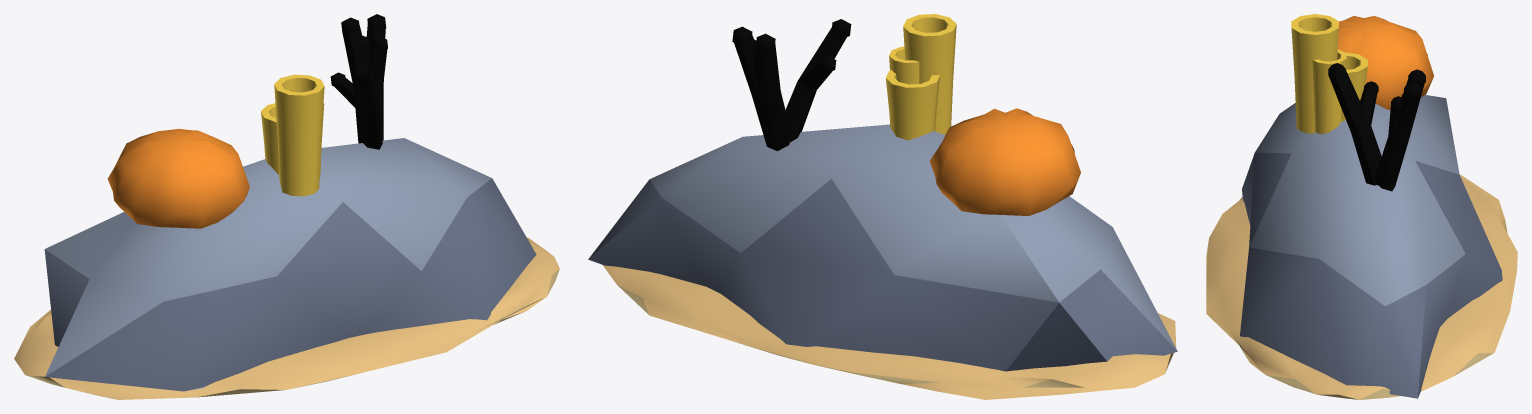
The model's file is CoralRidge.fbx.
3 views of the same model, side by side, from view 1: azimuth 30°, elevation 25°; view 2: azimuth 150°, elevation 25°; view 3: azimuth 270°, elevation 25° (orthographic). The views are drawn at different scales.
Parts seen in each view (by area): view 1: CoralRidge; view 2: CoralRidge; view 3: CoralRidge.
Part boxes in pixels (x1,y1,x2,y2): CoralRidge: (14, 14, 559, 399); CoralRidge: (588, 14, 1177, 399); CoralRidge: (1206, 14, 1517, 399).
Bounding box in the file's own units: 1.67 × 0.7823 × 0.8839.
1 material, 1 textured.
